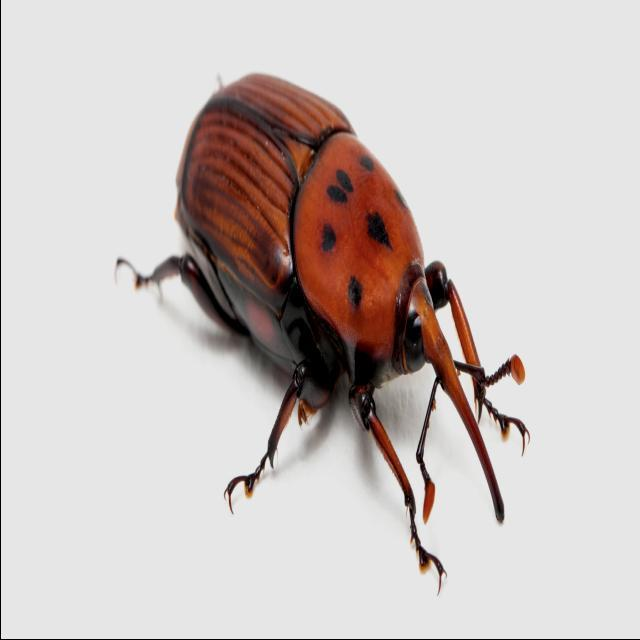Red-palm-weevil: (171, 75, 528, 517)
